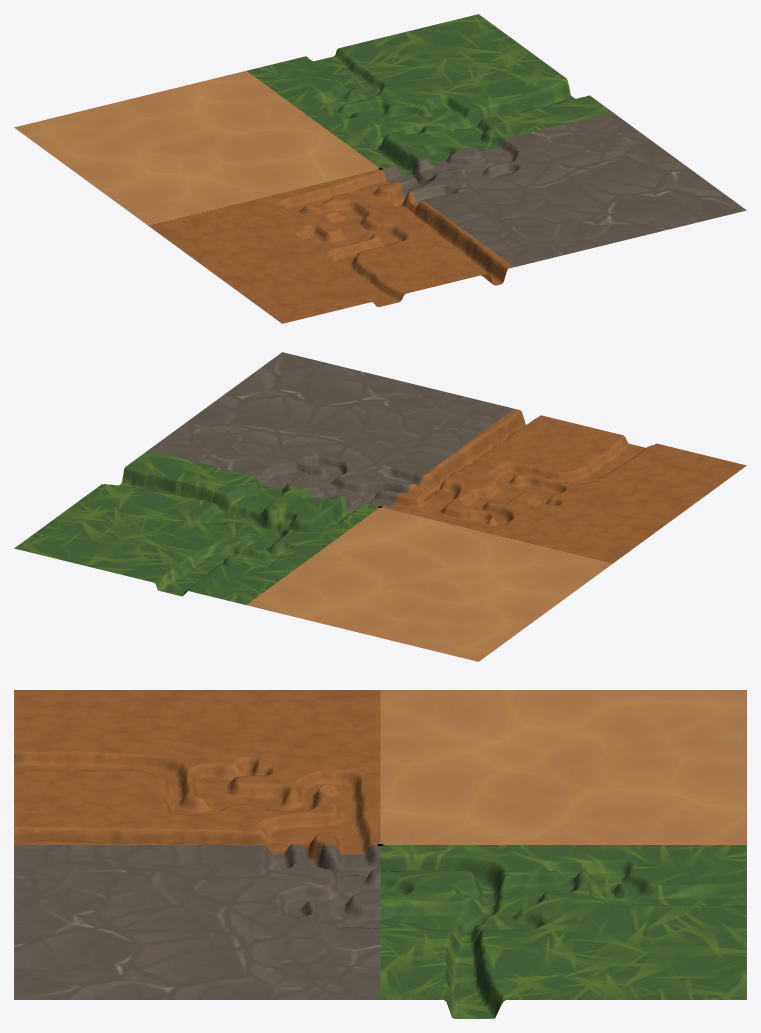
File: JonasLevel_Terrain01.fbx
The picture shows the model from 3 angles, top to bottom: view 1: azimuth 30°, elevation 25°; view 2: azimuth 150°, elevation 25°; view 3: azimuth 270°, elevation 25°; orthographic projection. The views are drawn at different scales.
Visible parts, largest first — view 1: JonasLevel_Terrain01; view 2: JonasLevel_Terrain01; view 3: JonasLevel_Terrain01.
Part boxes in pixels (left/top/right/bottom): JonasLevel_Terrain01: left=14, top=14, right=746, bottom=323; JonasLevel_Terrain01: left=14, top=352, right=746, bottom=661; JonasLevel_Terrain01: left=14, top=690, right=746, bottom=1018.
Bounding box in the file's own units: 350 × 10 × 350.
Materials: 1 (1 with a texture image).
